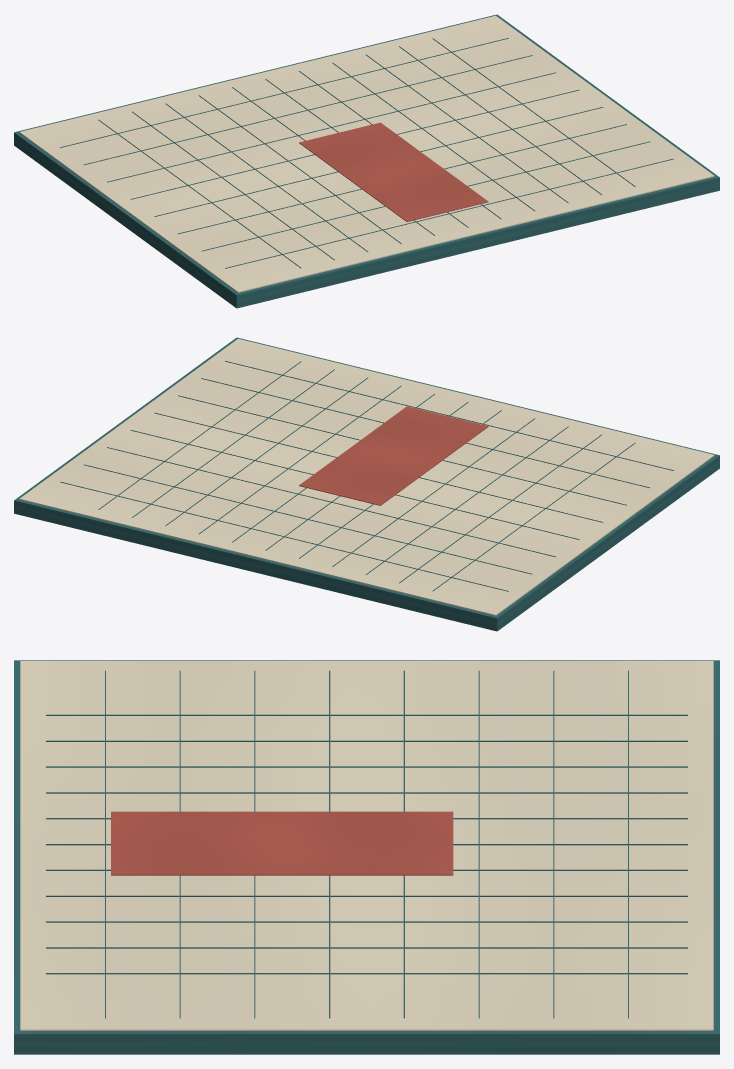
File: atlas100-s032-a07.glb
3 views of the same model, one above another, from view 1: azimuth 30°, elevation 25°; view 2: azimuth 150°, elevation 25°; view 3: azimuth 270°, elevation 25° (orthographic). The views are drawn at different scales.
Visible parts, largest first — view 1: atlas100-s032-a07:part-001, atlas100-s032-a07:part-000, atlas100-s032-a07:part-021, atlas100-s032-a07:part-015, atlas100-s032-a07:part-014, atlas100-s032-a07:part-013, atlas100-s032-a07:part-020, atlas100-s032-a07:part-017, atlas100-s032-a07:part-019, atlas100-s032-a07:part-016, atlas100-s032-a07:part-018; view 2: atlas100-s032-a07:part-001, atlas100-s032-a07:part-000, atlas100-s032-a07:part-021, atlas100-s032-a07:part-014, atlas100-s032-a07:part-013, atlas100-s032-a07:part-020, atlas100-s032-a07:part-015, atlas100-s032-a07:part-016, atlas100-s032-a07:part-019, atlas100-s032-a07:part-018, atlas100-s032-a07:part-017; view 3: atlas100-s032-a07:part-001, atlas100-s032-a07:part-000, atlas100-s032-a07:part-021, atlas100-s032-a07:part-002, atlas100-s032-a07:part-003, atlas100-s032-a07:part-004, atlas100-s032-a07:part-005, atlas100-s032-a07:part-009, atlas100-s032-a07:part-010, atlas100-s032-a07:part-011, atlas100-s032-a07:part-012, atlas100-s032-a07:part-014 (+1 smaller).
Part boxes in pixels (x1,y1,x2,y2): atlas100-s032-a07:part-001: (19, 15, 714, 292); atlas100-s032-a07:part-000: (14, 14, 719, 308); atlas100-s032-a07:part-021: (299, 122, 488, 221); atlas100-s032-a07:part-015: (107, 72, 555, 182); atlas100-s032-a07:part-014: (84, 55, 532, 164); atlas100-s032-a07:part-013: (60, 38, 508, 147); atlas100-s032-a07:part-020: (225, 158, 673, 268); atlas100-s032-a07:part-017: (154, 107, 603, 216); atlas100-s032-a07:part-019: (201, 141, 650, 251); atlas100-s032-a07:part-016: (130, 89, 579, 199); atlas100-s032-a07:part-018: (178, 124, 626, 234); atlas100-s032-a07:part-001: (19, 338, 714, 615); atlas100-s032-a07:part-000: (14, 337, 719, 631); atlas100-s032-a07:part-021: (299, 406, 488, 505); atlas100-s032-a07:part-014: (83, 464, 532, 574); atlas100-s032-a07:part-013: (60, 481, 508, 591); atlas100-s032-a07:part-020: (225, 361, 673, 470); atlas100-s032-a07:part-015: (107, 447, 555, 557); atlas100-s032-a07:part-016: (130, 430, 579, 539); atlas100-s032-a07:part-019: (201, 378, 649, 487); atlas100-s032-a07:part-018: (178, 395, 626, 505); atlas100-s032-a07:part-017: (154, 412, 603, 522); atlas100-s032-a07:part-001: (20, 661, 713, 1030); atlas100-s032-a07:part-000: (14, 660, 719, 1054); atlas100-s032-a07:part-021: (111, 811, 453, 875); atlas100-s032-a07:part-002: (46, 714, 687, 715); atlas100-s032-a07:part-003: (46, 740, 687, 741); atlas100-s032-a07:part-004: (46, 766, 687, 767); atlas100-s032-a07:part-005: (46, 792, 687, 793); atlas100-s032-a07:part-009: (46, 895, 687, 896); atlas100-s032-a07:part-010: (46, 921, 687, 922); atlas100-s032-a07:part-011: (46, 947, 687, 948); atlas100-s032-a07:part-012: (46, 973, 687, 974); atlas100-s032-a07:part-014: (553, 670, 554, 1018).
Bounding box in the file's own units: 13.02 × 0.404 × 10.4.
3 materials, 3 textured.
